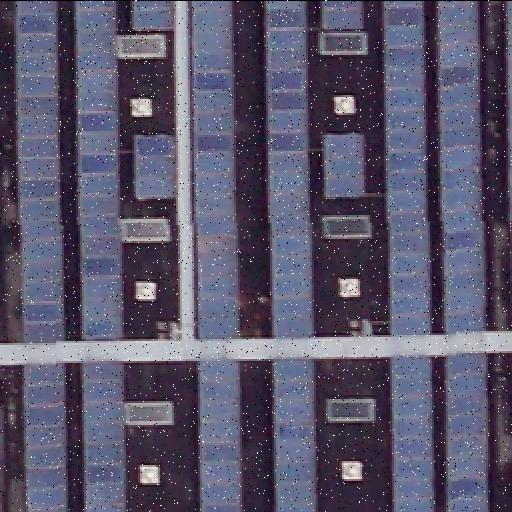solar-panel: (16, 0, 68, 344), (75, 1, 125, 343), (263, 0, 313, 336), (191, 0, 241, 336), (435, 1, 485, 335), (382, 1, 430, 335), (269, 358, 315, 512), (444, 353, 488, 511), (390, 353, 434, 511), (200, 360, 244, 512), (84, 361, 128, 511), (24, 364, 68, 512), (134, 135, 178, 201), (323, 134, 365, 198), (505, 0, 511, 224), (319, 1, 361, 31), (131, 1, 173, 31)
